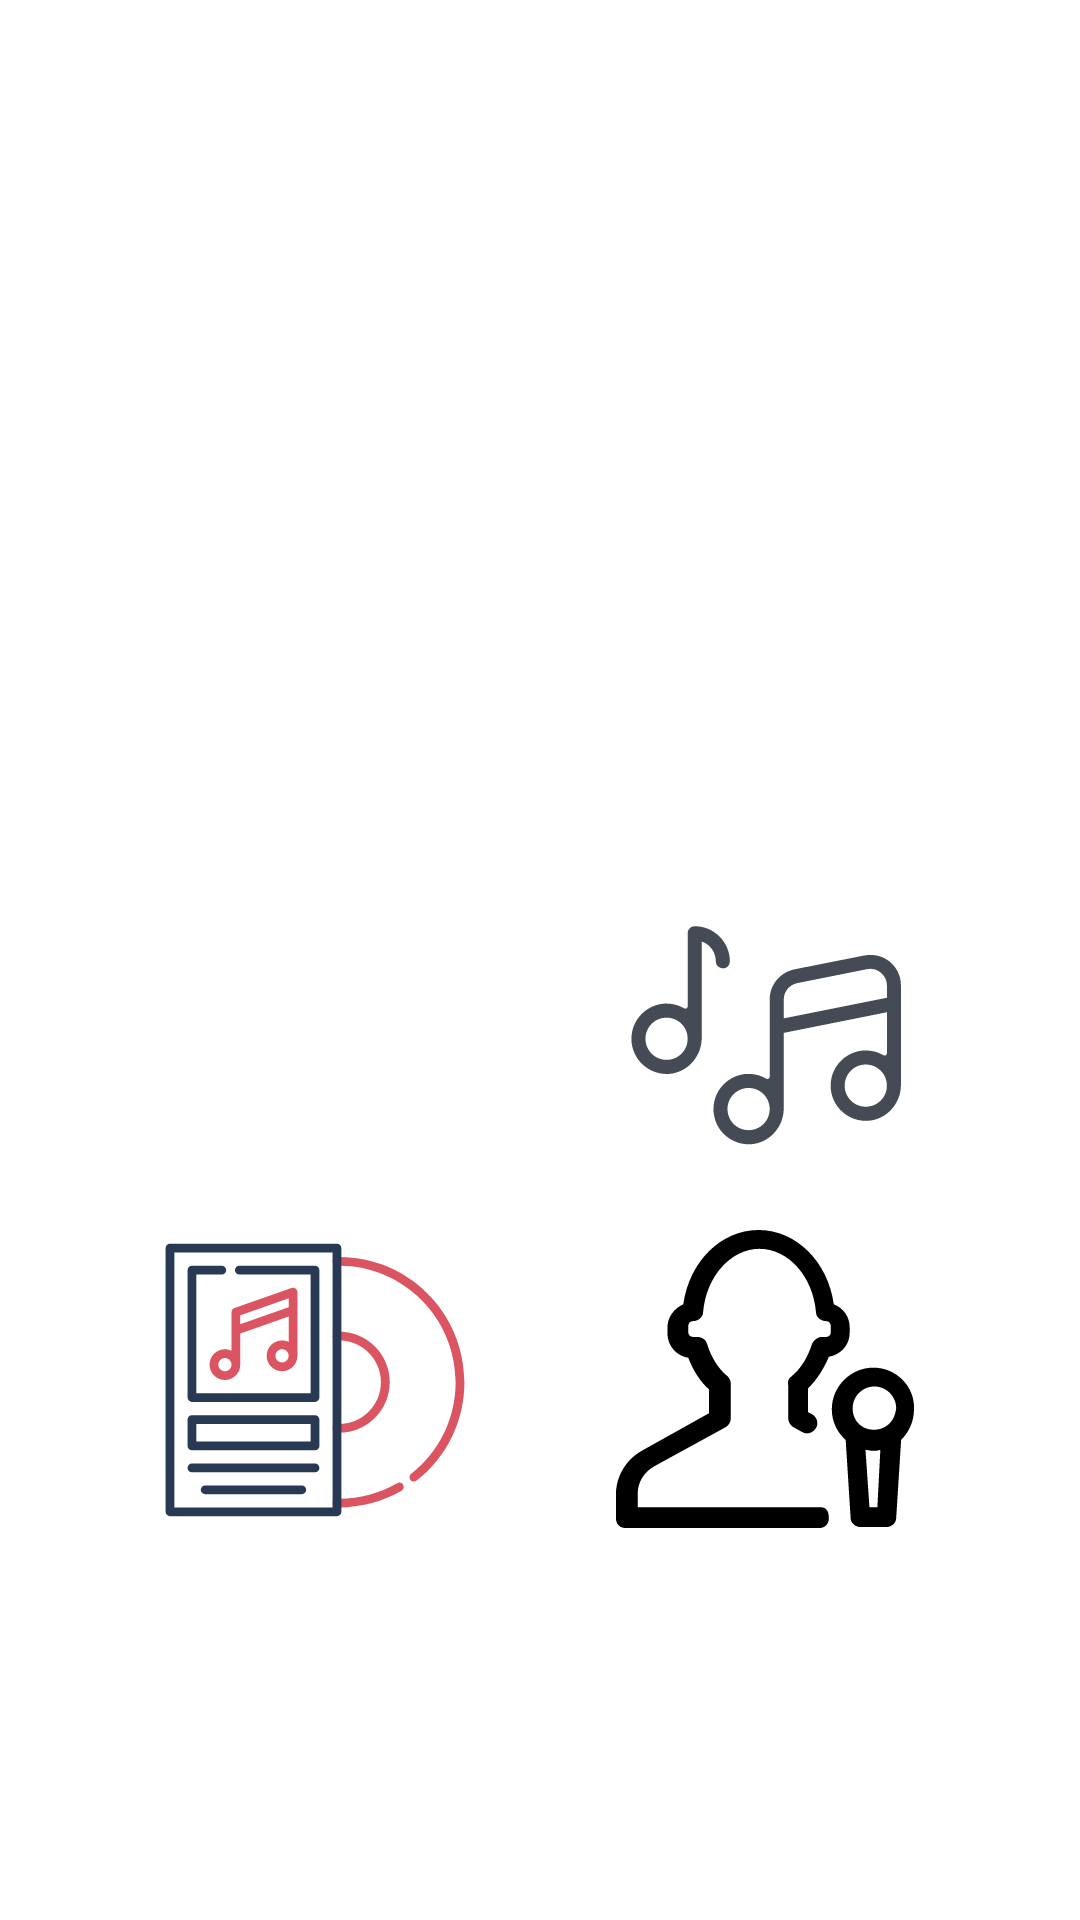

Icon click points for this 1080 x 1920 phone screenshot, format (x=x, y=y):
Album: (x=315, y=1380)
Singer: (x=765, y=1379)
Songs: (x=766, y=1035)
